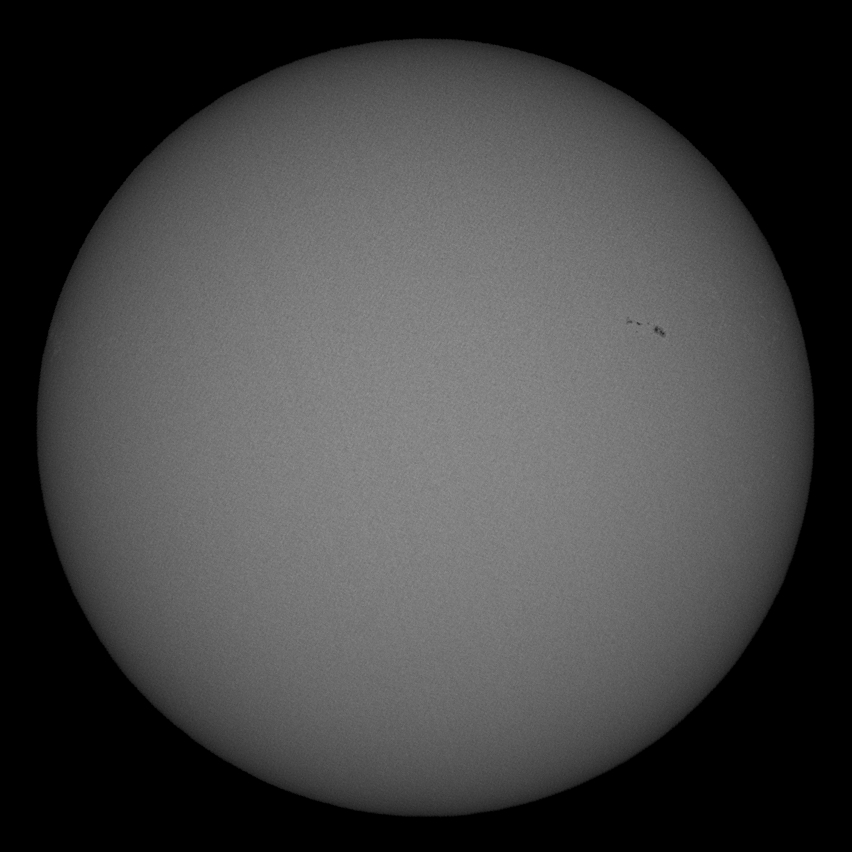sunspot: (623, 314, 671, 339)
